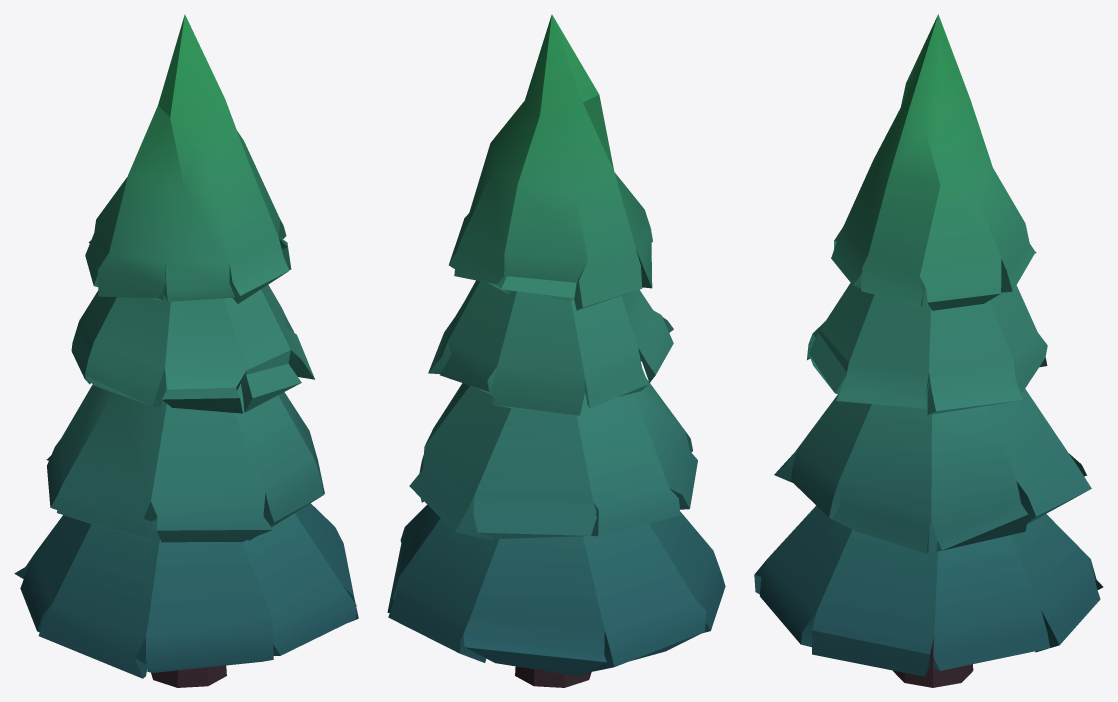
Rendered from woodland_spruce_4.glb.
3 renders of one model, left to right at view 1: azimuth 30°, elevation 25°; view 2: azimuth 150°, elevation 25°; view 3: azimuth 270°, elevation 25°, orthographic.
Parts seen in each view (by area): view 1: Cone.005, Cylinder.002; view 2: Cone.005, Cylinder.002; view 3: Cone.005, Cylinder.002.
Part boxes in pixels (x1,y1,x2,y2): Cone.005: (14,14,358,678); Cylinder.002: (151,665,226,687); Cone.005: (387,14,725,676); Cylinder.002: (515,666,591,687); Cone.005: (754,14,1103,676); Cylinder.002: (893,639,973,687).
Size of the model in its own units: 4.09 by 8.35 by 4.03.
Materials: 1 (1 with a texture image).
